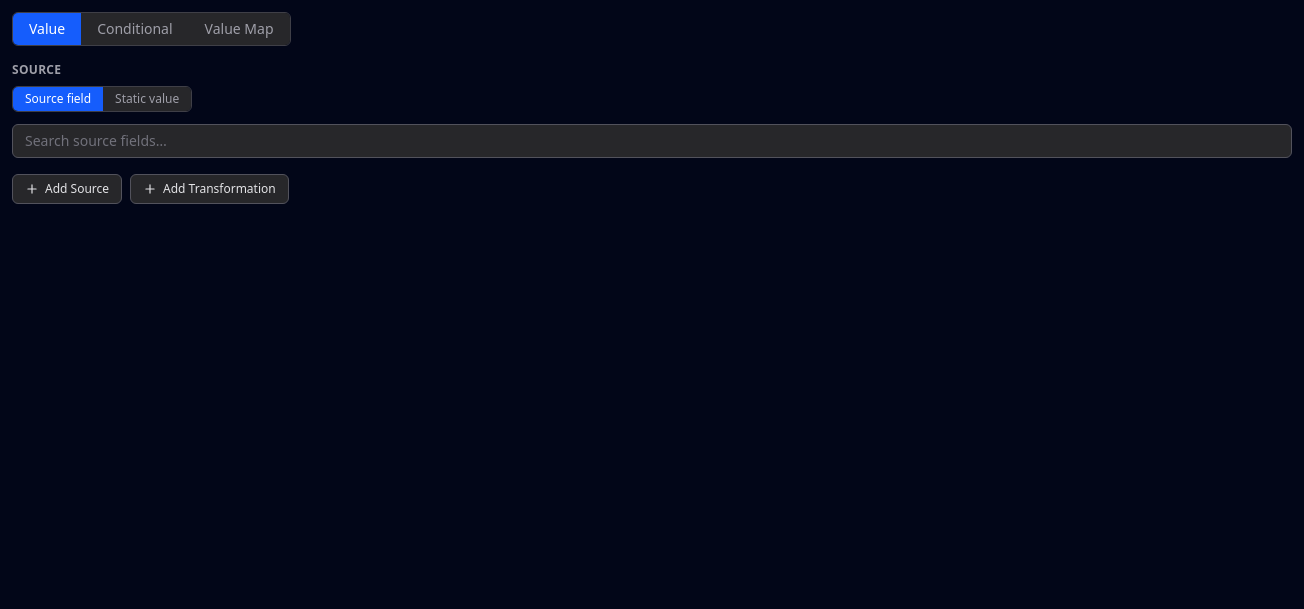
Test: T-09 — AE-03: Add Transformation from empty state › selecting a function from empty state renders ArgumentForm
Click the button with test id "builder-add-transform-btn". click: [209, 189]
box: [130,174,289,204]
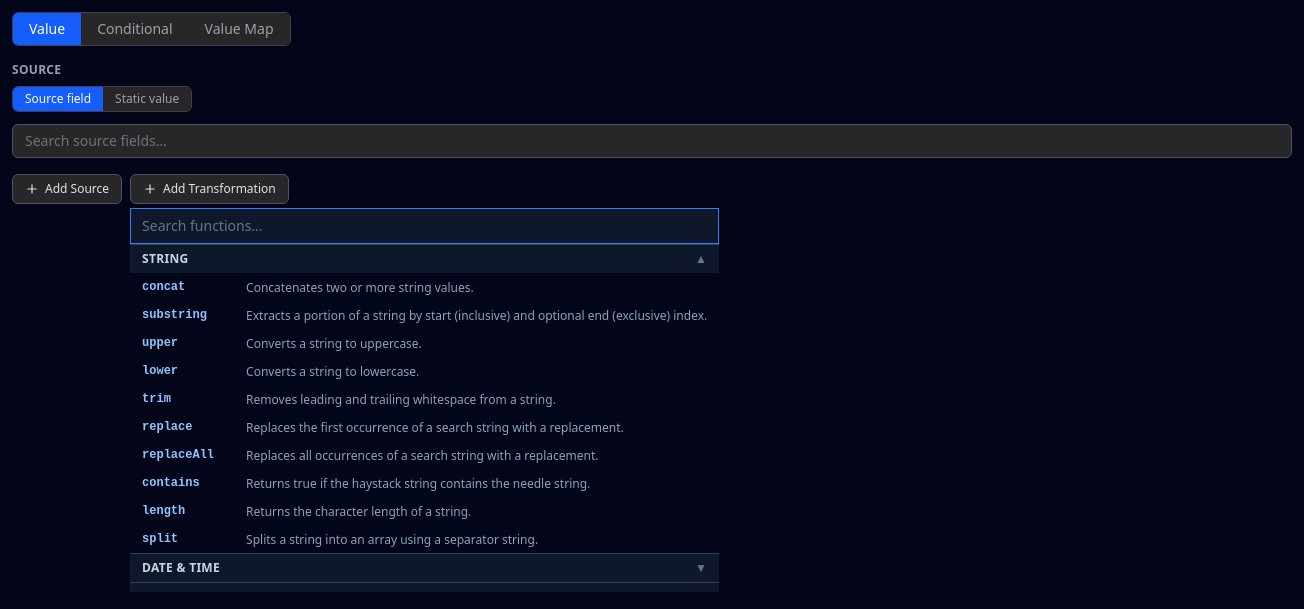
Click the button with test id "transform-fn-upper". click: [425, 343]
box: [130,329,719,357]
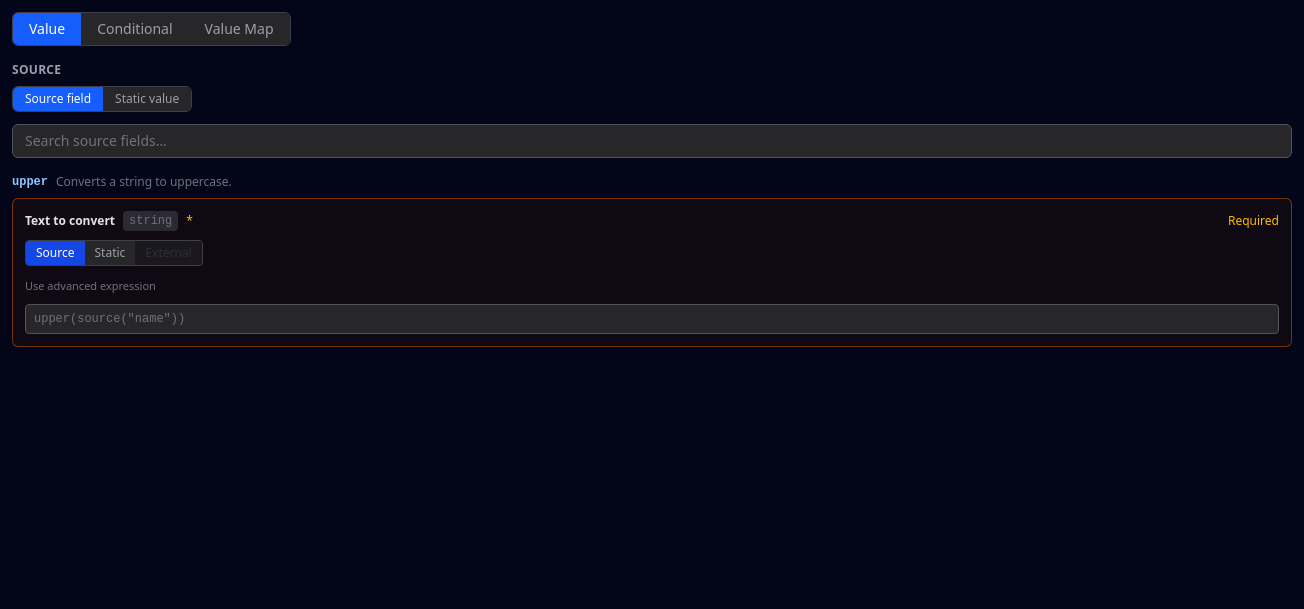
expect the element with test id "argument-form-upper" is shown: met, box [12,174,1292,347]
